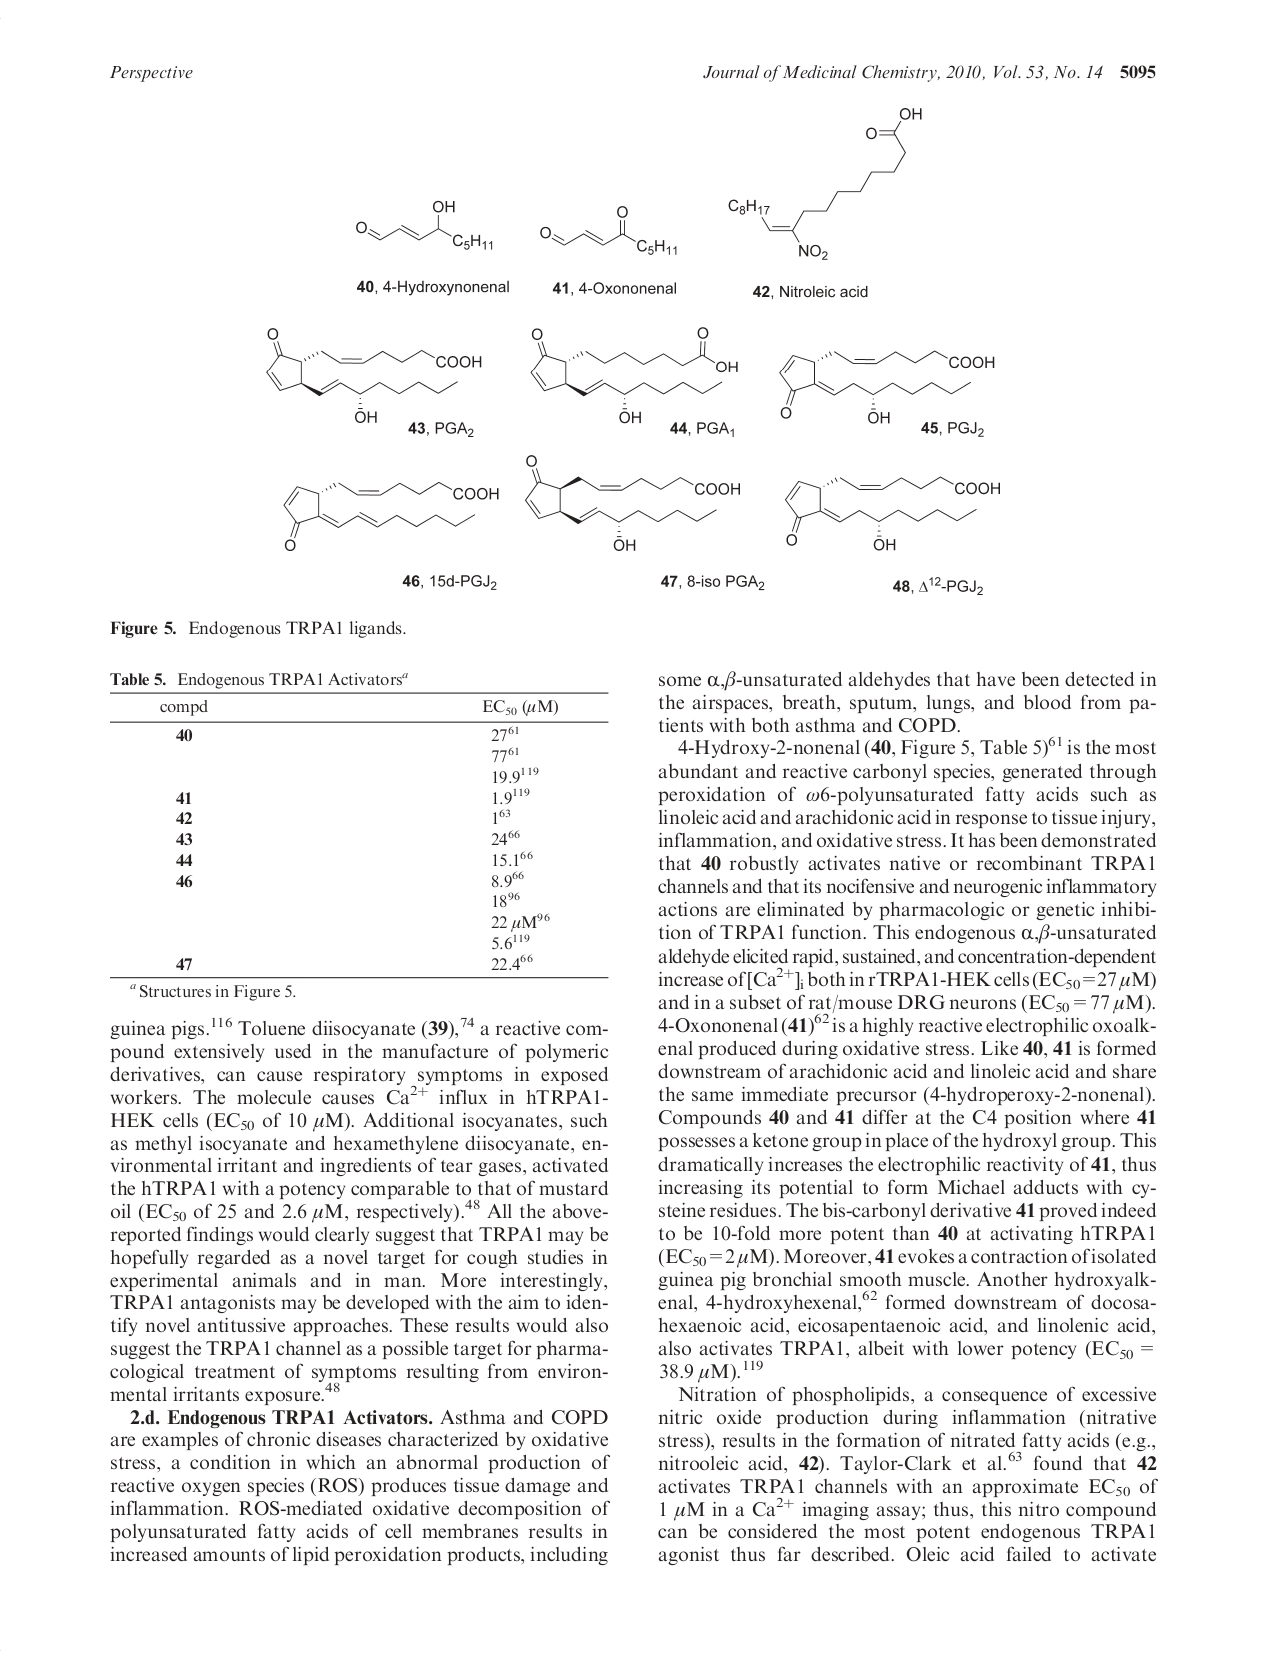exist_molecular: (730, 102, 927, 265), (520, 440, 743, 563), (251, 319, 485, 430), (771, 472, 1013, 556), (771, 346, 1011, 426), (278, 473, 505, 555), (525, 323, 751, 400), (536, 199, 686, 267), (352, 192, 501, 255)
